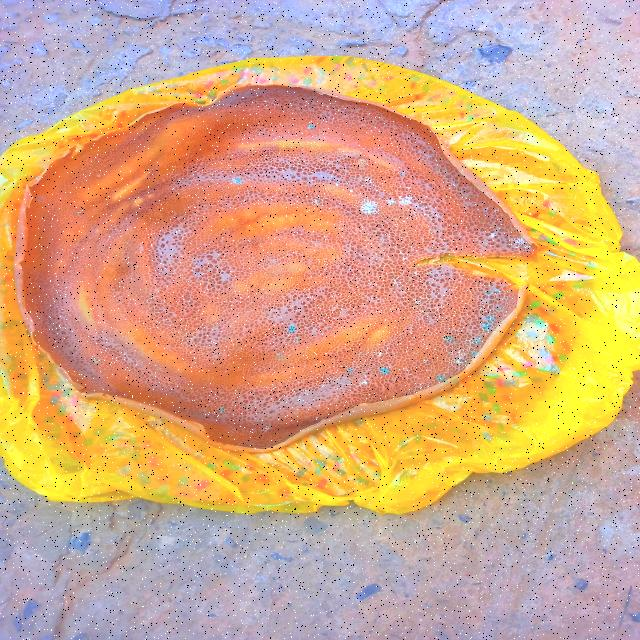injera_mold: (406, 200, 446, 220), (447, 348, 477, 370), (354, 197, 382, 216), (340, 374, 372, 389), (512, 231, 530, 253), (306, 192, 328, 208), (261, 93, 284, 108), (386, 194, 414, 206), (482, 204, 504, 216), (406, 296, 424, 310), (391, 274, 408, 286), (258, 422, 274, 434), (483, 315, 494, 329), (230, 177, 246, 185), (433, 374, 449, 382), (361, 177, 374, 185), (215, 406, 228, 414), (451, 376, 462, 385), (488, 231, 498, 239), (445, 336, 455, 344), (307, 123, 316, 131), (473, 336, 482, 344), (375, 351, 389, 356), (94, 173, 104, 180), (379, 368, 390, 374), (90, 358, 100, 364), (482, 290, 492, 296), (257, 130, 265, 135), (76, 210, 84, 215), (412, 270, 420, 275), (346, 368, 355, 372), (406, 185, 412, 190), (495, 289, 500, 294), (348, 189, 354, 193), (335, 183, 341, 187)
